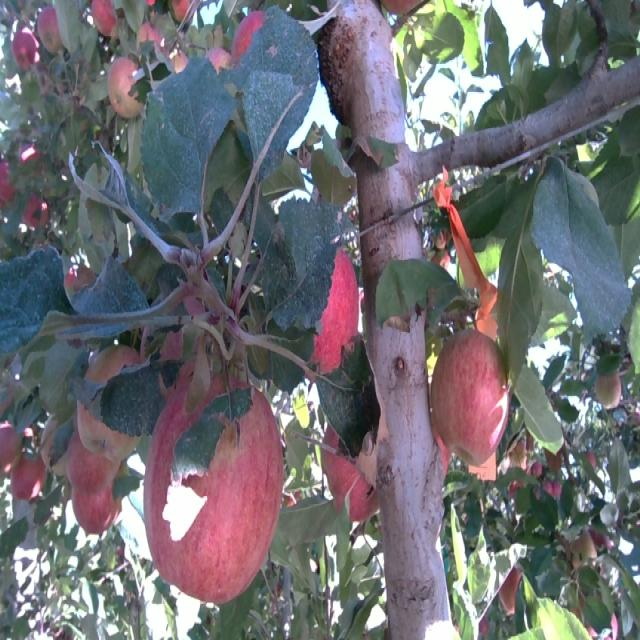100-_ripeness: (142, 355, 283, 587), (433, 320, 513, 468), (76, 348, 156, 468), (297, 248, 356, 375), (317, 422, 375, 522), (68, 446, 121, 526), (107, 58, 146, 118)
